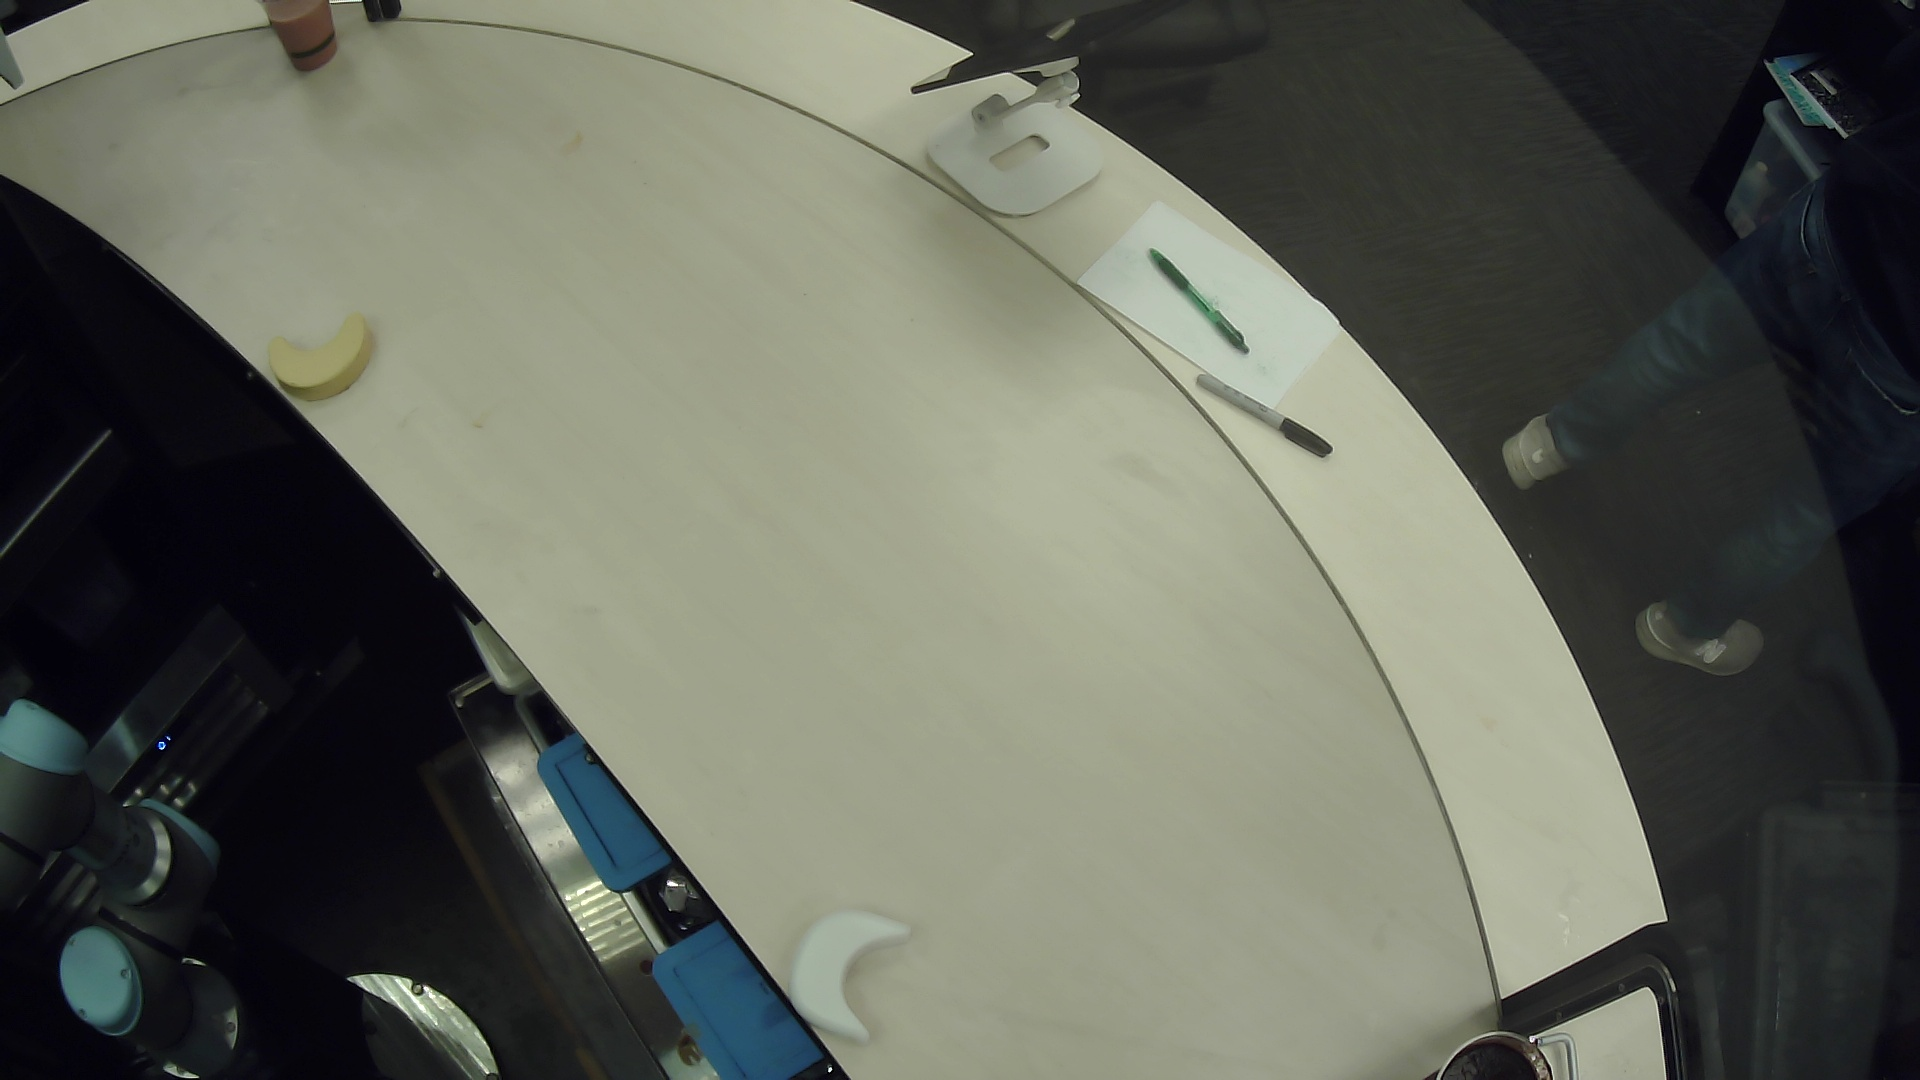Deliver: (757, 882, 953, 1055), (248, 295, 404, 417)
Full_cup: (1385, 1000, 1575, 1080), (247, 1, 375, 98)
